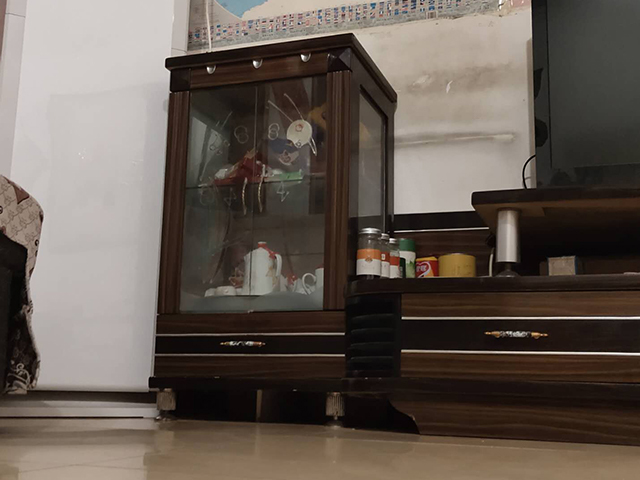cabinet: (149, 31, 396, 421), (339, 185, 640, 448)
